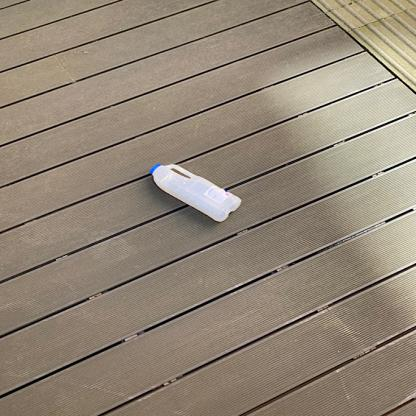trash: (146, 161, 247, 222)
